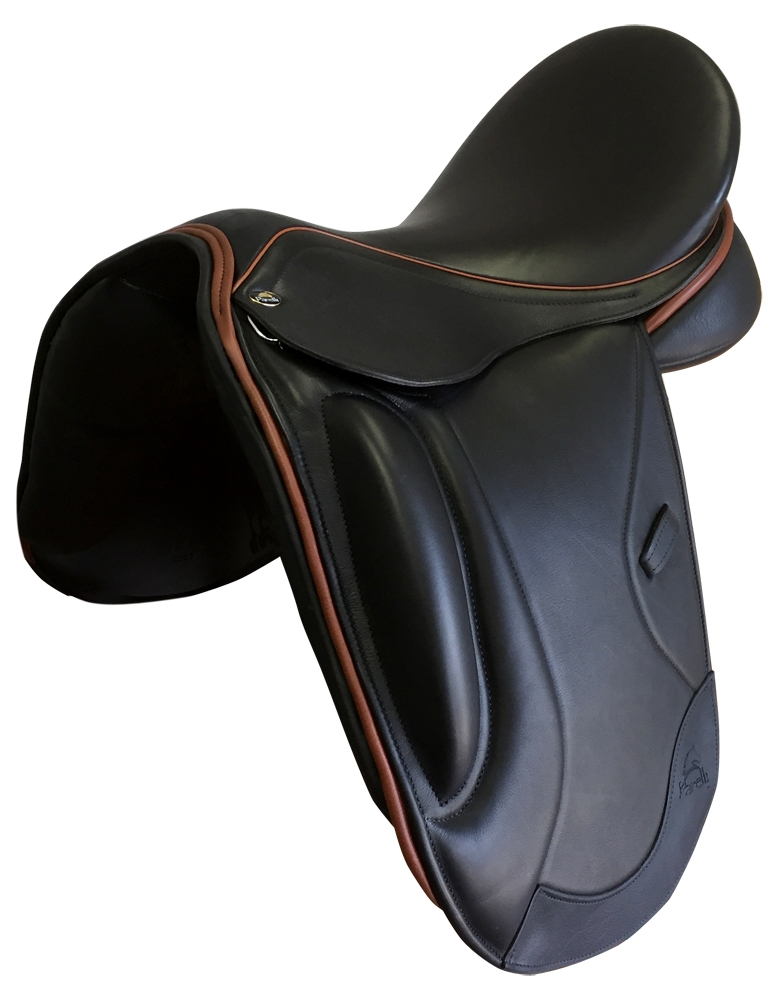saddle: (29, 19, 757, 843)
